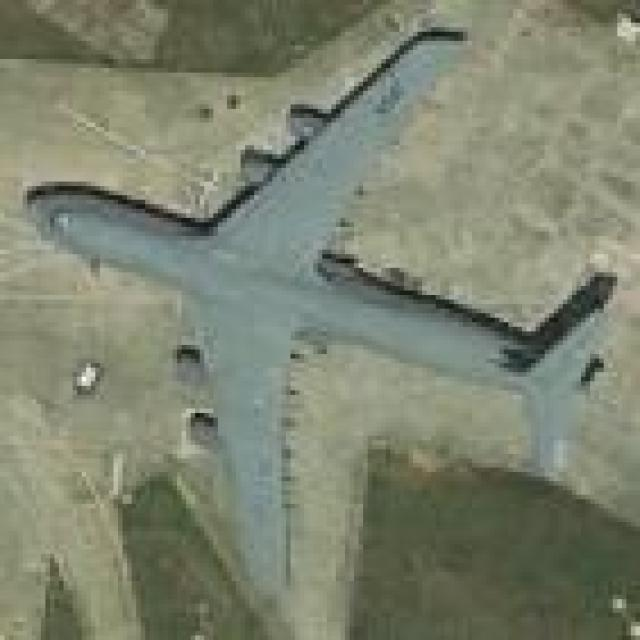C-5_TopDown: (18, 18, 622, 636)
